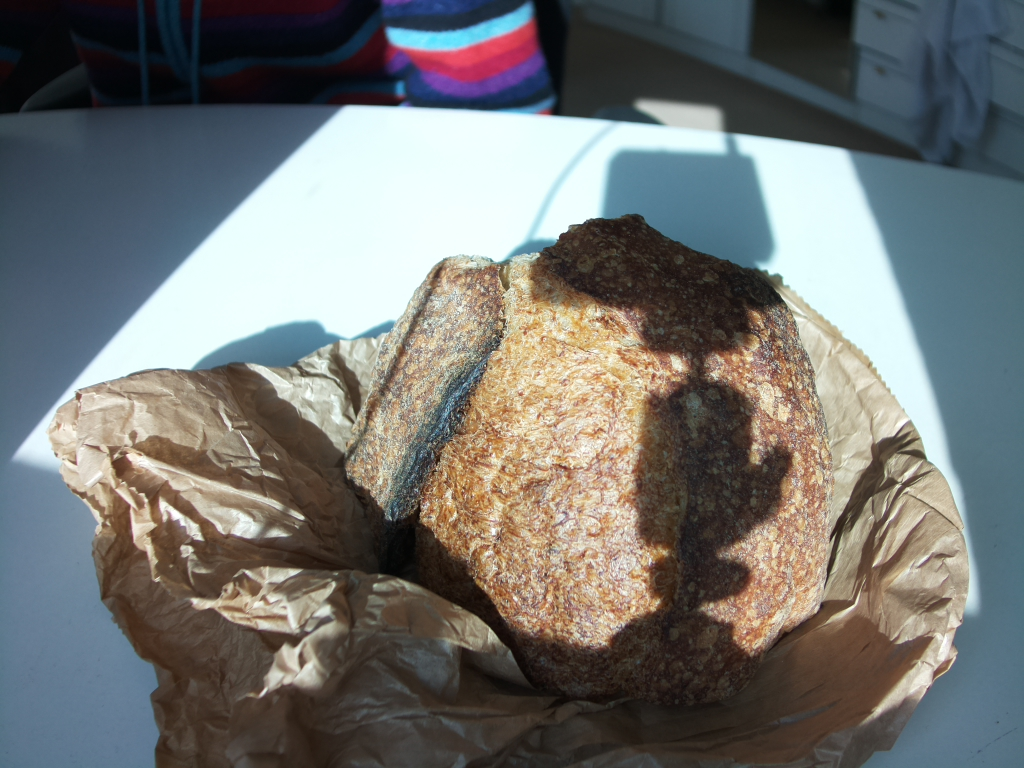bread: (333, 249, 831, 668)
